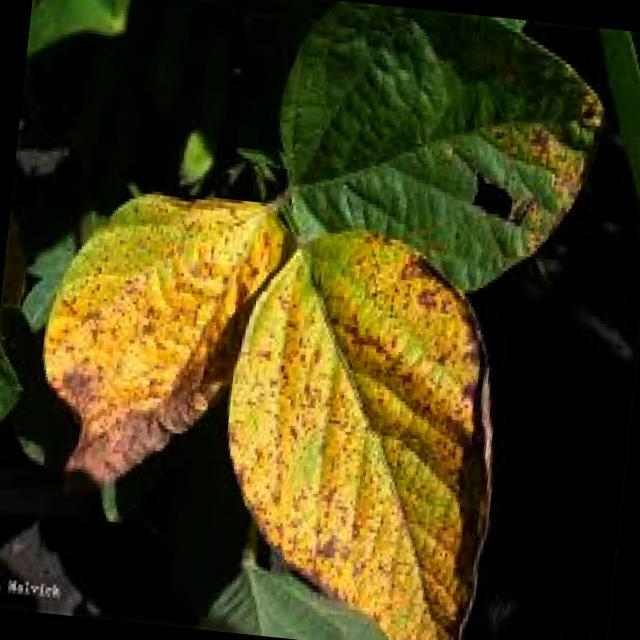Tomato Septoria spot leaf: (208, 224, 543, 640), (253, 0, 619, 315), (26, 165, 295, 508)
